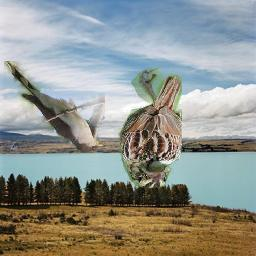Cuckoo: (5, 61, 106, 153)
Sparrow: (118, 68, 182, 189)
